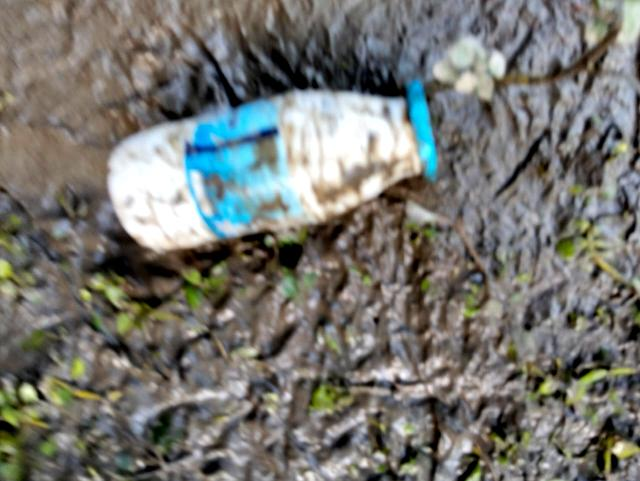bottle: (92, 60, 445, 270)
